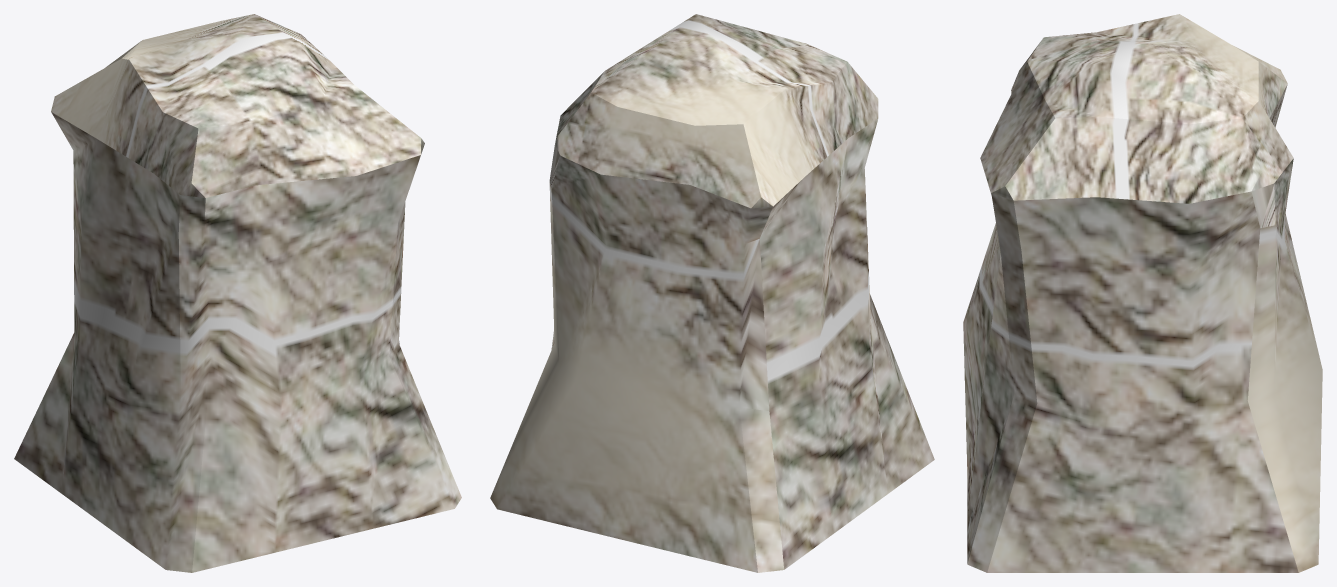
File: TDSten1.fbx
3 views of the same model, side by side, from view 1: azimuth 30°, elevation 25°; view 2: azimuth 150°, elevation 25°; view 3: azimuth 270°, elevation 25° (orthographic). The views are drawn at different scales.
Parts seen in each view (by area): view 1: pCube66; view 2: pCube66; view 3: pCube66.
Boxes of the visible parts, left/top/right/bottom form: pCube66: left=14, top=14, right=461, bottom=572; pCube66: left=490, top=14, right=934, bottom=572; pCube66: left=963, top=14, right=1322, bottom=572.
Size of the model in its own units: 28.34 by 40.5 by 29.
